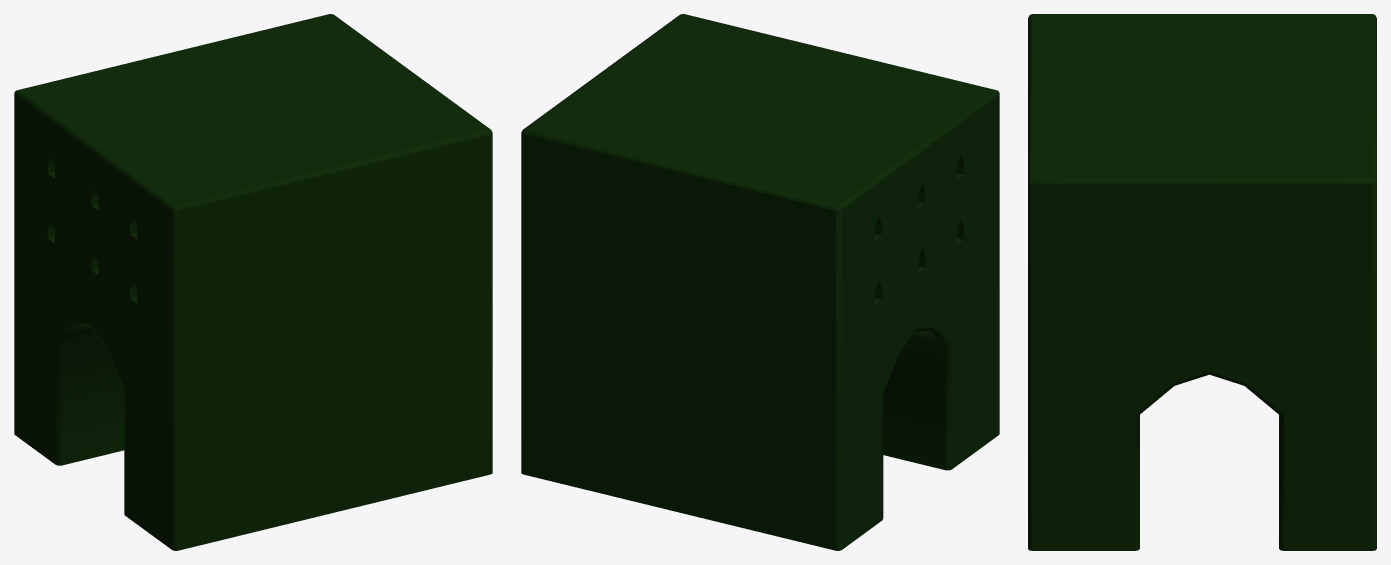
Rendered from gate-3.fbx.
3 views of the same model, side by side, from view 1: azimuth 30°, elevation 25°; view 2: azimuth 150°, elevation 25°; view 3: azimuth 270°, elevation 25° (orthographic). The views are drawn at different scales.
Visible parts, largest first — view 1: gate-3; view 2: gate-3; view 3: gate-3.
Boxes of the visible parts, x1,y1,x2,y2 form: gate-3: [14, 14, 492, 550]; gate-3: [521, 14, 999, 550]; gate-3: [1028, 14, 1376, 550].
Bounding box in the file's own units: 8.45 × 8.66 × 7.39.
